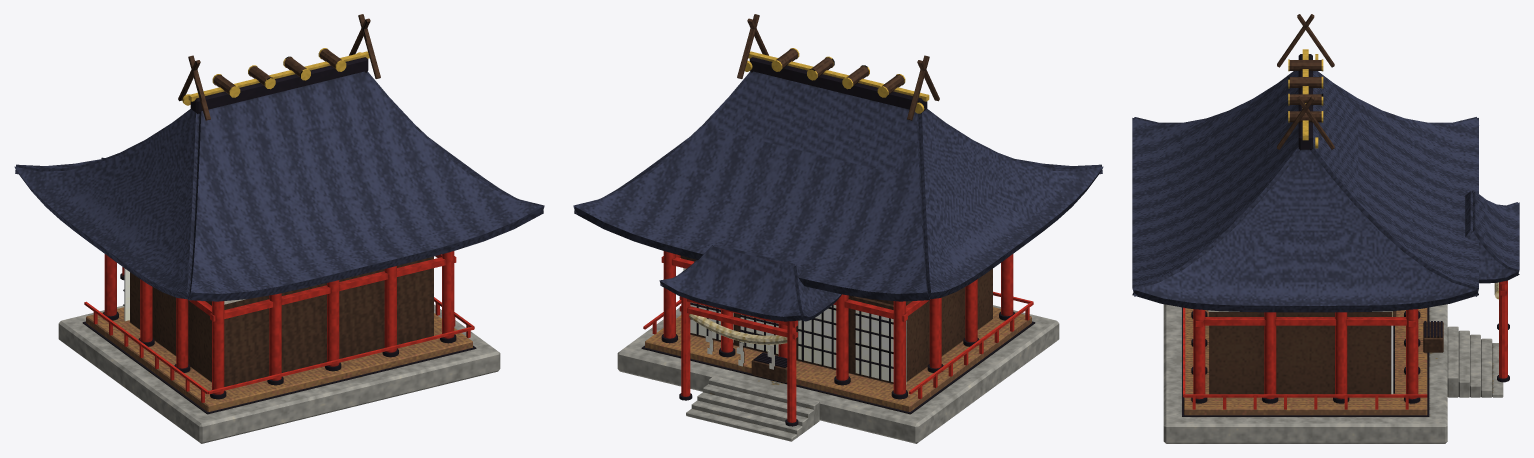
The model's file is shrine_hall.fbx.
The picture shows the model from 3 angles, left to right: view 1: azimuth 30°, elevation 25°; view 2: azimuth 150°, elevation 25°; view 3: azimuth 270°, elevation 25°; orthographic projection.
Visible parts, largest first — view 1: shrine_hall; view 2: shrine_hall; view 3: shrine_hall.
Boxes of the visible parts, x1,y1,x2,y2 form: shrine_hall: (14, 14, 544, 443); shrine_hall: (573, 14, 1103, 443); shrine_hall: (1132, 14, 1519, 443).
Bounding box in the file's own units: 4043 × 3442 × 3823.
Materials: 1 (1 with a texture image).
